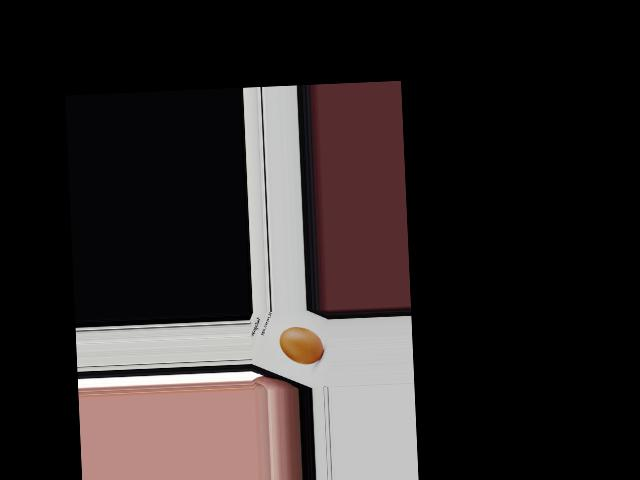egg: (279, 326, 324, 365)
